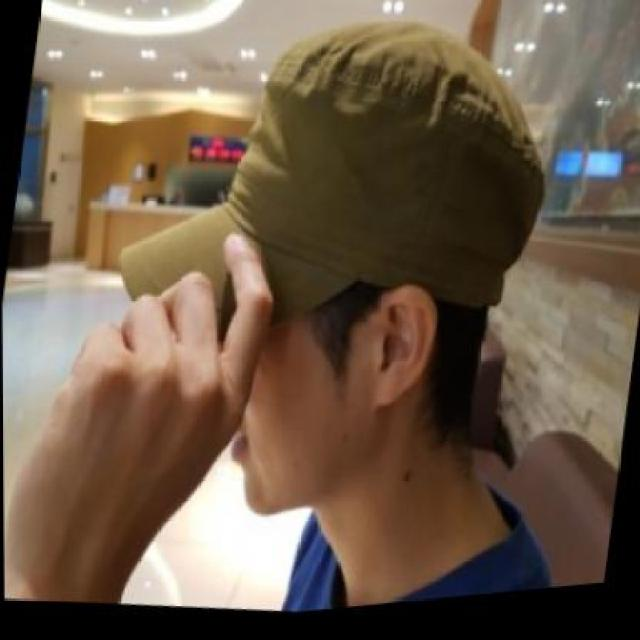hat: (104, 0, 571, 391)
